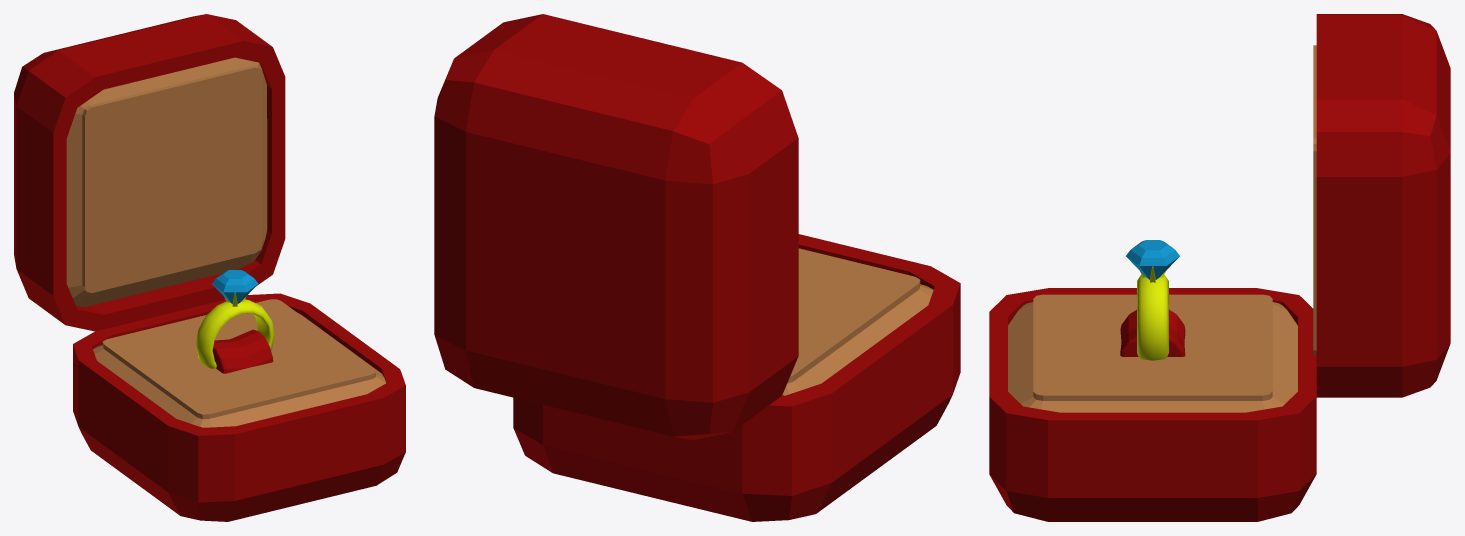
Rendered from ringbox.fbx.
3 views of the same model, side by side, from view 1: azimuth 30°, elevation 25°; view 2: azimuth 150°, elevation 25°; view 3: azimuth 270°, elevation 25° (orthographic). The views are drawn at different scales.
Parts seen in each view (by area): view 1: ring box upper, ring box, ring's diamond; view 2: ring box upper, ring box; view 3: ring box, ring box upper, ring's diamond.
Boxes of the visible parts, x1=… form: ring box upper: x1=14, y1=14, x2=285, y2=331; ring box: x1=73, y1=293, x2=405, y2=521; ring's diamond: x1=212, y1=270, x2=258, y2=306; ring box upper: x1=434, y1=14, x2=798, y2=440; ring box: x1=513, y1=234, x2=960, y2=521; ring box: x1=989, y1=274, x2=1316, y2=521; ring box upper: x1=1313, y1=14, x2=1450, y2=397; ring's diamond: x1=1126, y1=240, x2=1179, y2=282.
Bounding box in the file's own units: 198 × 292 × 292.
